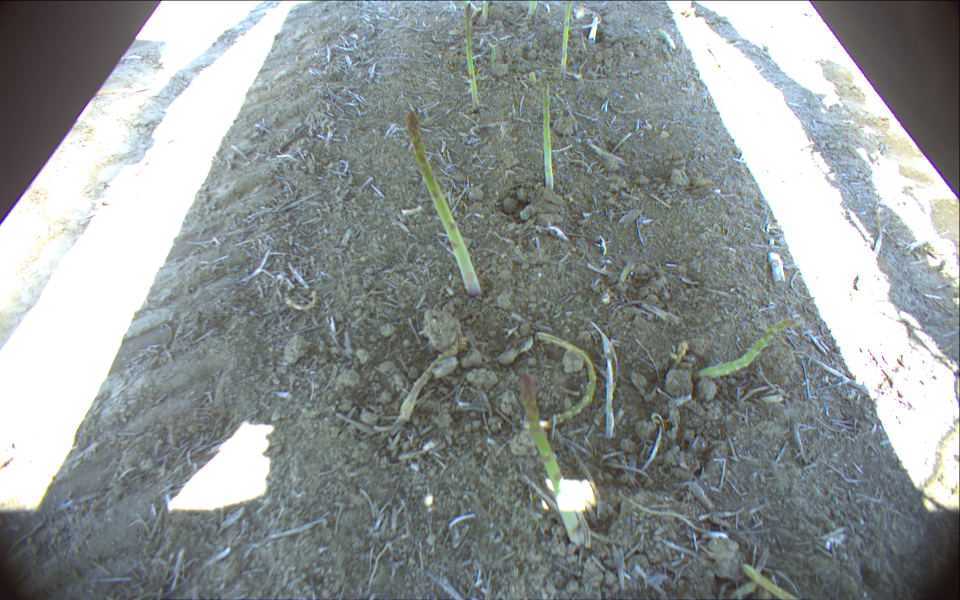aspa: (401, 108, 484, 298), (510, 369, 591, 549), (696, 315, 800, 385), (459, 1, 482, 115), (539, 79, 556, 193), (558, 1, 575, 81), (524, 1, 540, 23)
